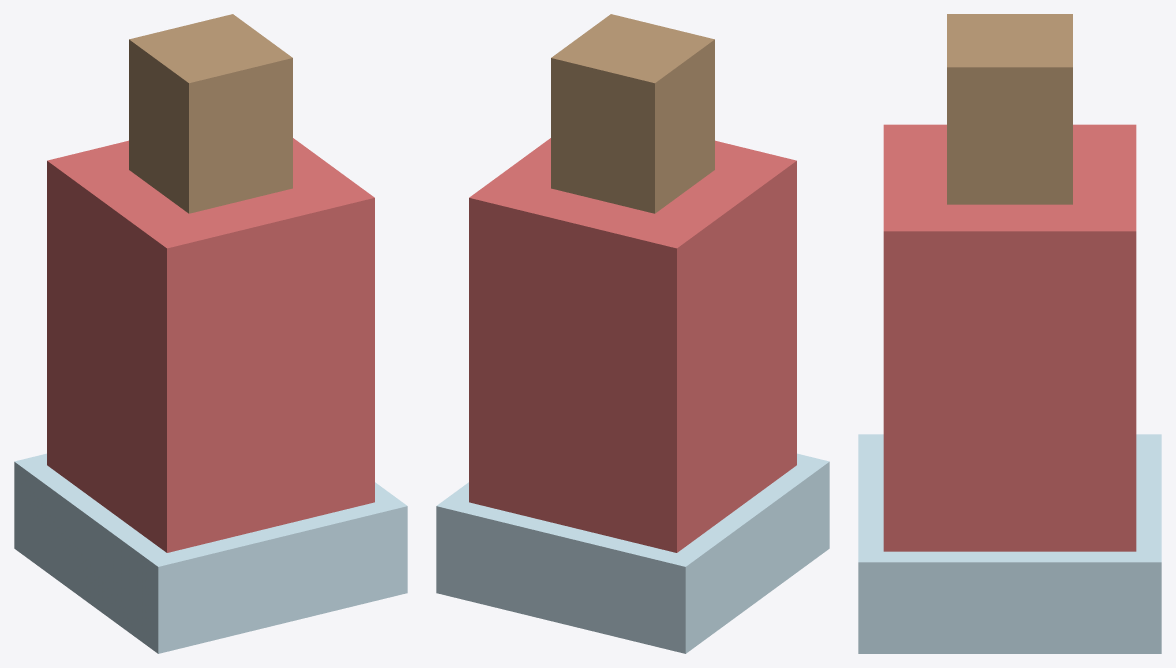
File: Item_Tonic_AMF_Thick_T1.glb
The picture shows the model from 3 angles, left to right: view 1: azimuth 30°, elevation 25°; view 2: azimuth 150°, elevation 25°; view 3: azimuth 270°, elevation 25°; orthographic projection. The views are drawn at different scales.
Visible parts, largest first — view 1: Item_Tonic_AMF_Thick_T1; view 2: Item_Tonic_AMF_Thick_T1; view 3: Item_Tonic_AMF_Thick_T1.
Boxes of the visible parts, x1,y1,x2,y2 form: Item_Tonic_AMF_Thick_T1: (14, 14, 407, 653); Item_Tonic_AMF_Thick_T1: (436, 14, 829, 653); Item_Tonic_AMF_Thick_T1: (858, 14, 1161, 653).
Bounding box in the file's own units: 0.12 × 0.24 × 0.12.
